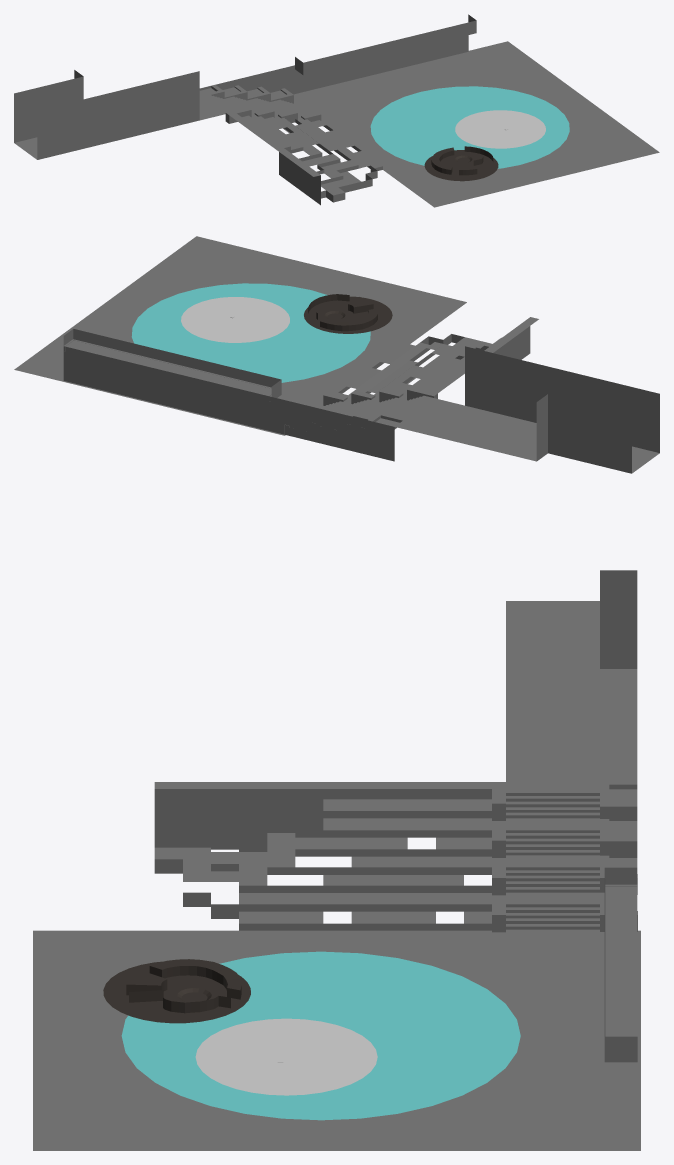
Rendered from Environment.obj.
3 views of the same model, one above another, from view 1: azimuth 30°, elevation 25°; view 2: azimuth 150°, elevation 25°; view 3: azimuth 270°, elevation 25° (orthographic). The views are drawn at different scales.
Parts seen in each view (by area): view 1: Cube, Circle, Circle.001, Circle.003_Circle.002; view 2: Cube, Circle, Circle.001, Circle.003_Circle.002; view 3: Cube, Circle, Circle.001, Circle.003_Circle.002.
Part boxes in pixels (x1,y1,x2,y2): Cube: (14,14,659,207); Circle: (370,86,569,168); Circle.001: (455,110,545,148); Circle.003_Circle.002: (424,146,498,181); Cube: (14,236,659,473); Circle: (131,283,370,382); Circle.001: (181,297,289,342); Circle.003_Circle.002: (304,294,392,333); Cube: (33,570,640,1150); Circle: (121,951,520,1120); Circle.001: (195,1018,377,1095); Circle.003_Circle.002: (103,959,250,1023).
Bounding box in the file's own units: 62.14 × 9.48 × 32.45.
